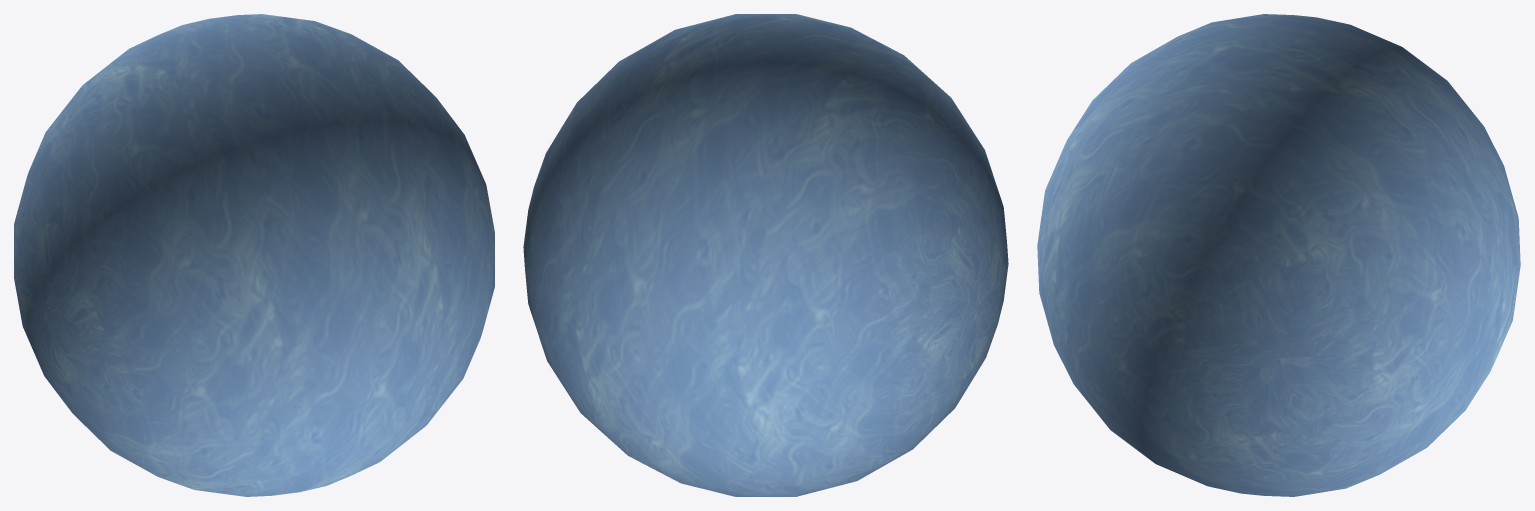
The model's file is invisiblewoman_bubble.glb.
3 renders of one model, left to right at view 1: azimuth 30°, elevation 25°; view 2: azimuth 150°, elevation 25°; view 3: azimuth 270°, elevation 25°, orthographic.
Visible parts, largest first — view 1: invisiblewoman_bubble_0; view 2: invisiblewoman_bubble_0; view 3: invisiblewoman_bubble_0.
Boxes of the visible parts, <box> form: invisiblewoman_bubble_0: <box>14,14,494,496</box>; invisiblewoman_bubble_0: <box>523,14,1008,496</box>; invisiblewoman_bubble_0: <box>1037,14,1520,496</box>.
Bounding box in the file's own units: 160 × 159 × 159.
1 material, 1 textured.
